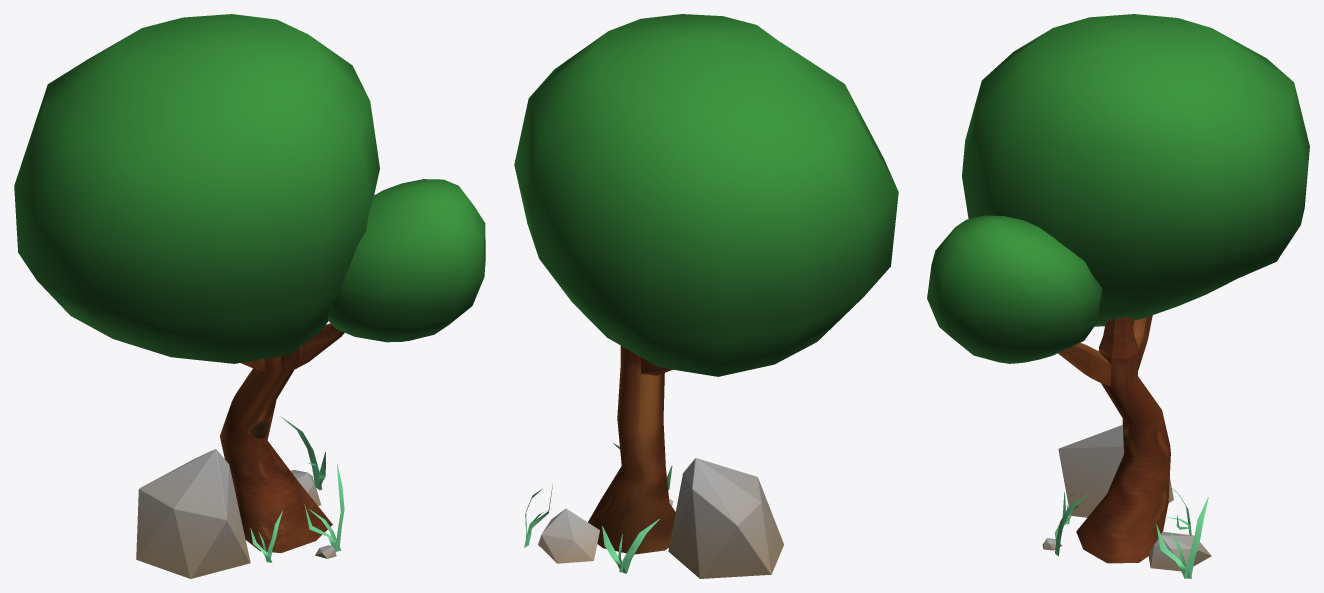
Rendered from Large tree collection 1.fbx.
The picture shows the model from 3 angles, left to right: view 1: azimuth 30°, elevation 25°; view 2: azimuth 150°, elevation 25°; view 3: azimuth 270°, elevation 25°; orthographic projection. The views are drawn at different scales.
Visible parts, largest first — view 1: Large tree Collection 1; view 2: Large tree Collection 1; view 3: Large tree Collection 1.
Boxes of the visible parts, x1,y1,x2,y2 form: Large tree Collection 1: (14, 14, 485, 578); Large tree Collection 1: (514, 14, 898, 578); Large tree Collection 1: (927, 14, 1309, 578).
Bounding box in the file's own units: 34.5 × 44.88 × 32.13.
